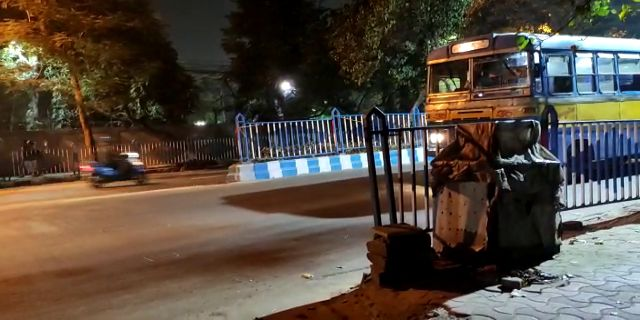Bus: (419, 31, 635, 180)
Motorbike: (73, 136, 158, 190)
